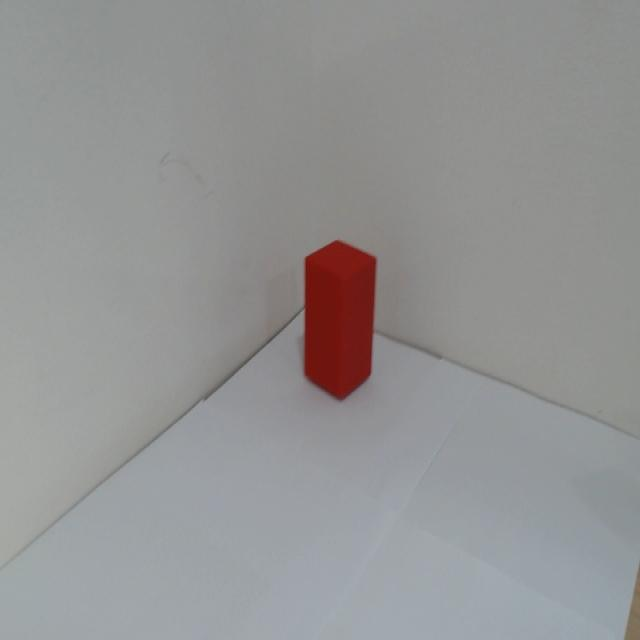cube: (299, 231, 381, 407)
